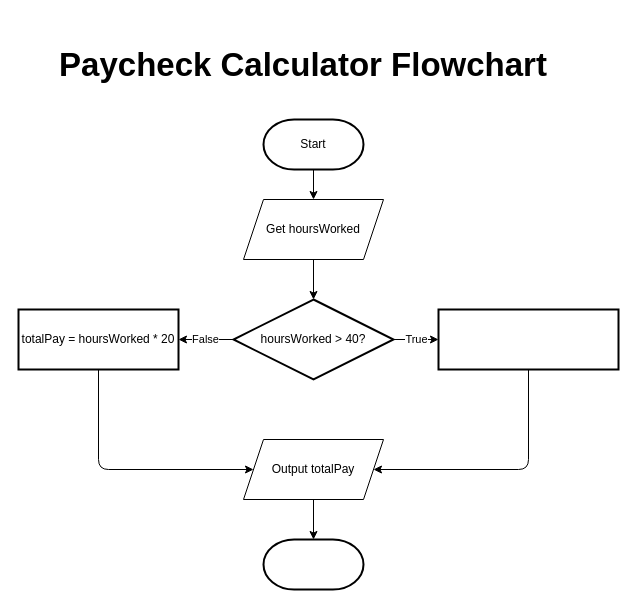
Some shapes in this 636 by 607 pixel diagram are drawn without their labels. The shapes that lost their labels are listed below. From the top down, each one's centre as x and y in pixels, then its label:
At (x=528, y=339): "totalPay = (40 * 20) + ((hoursWorked - 40) * 30)".
At (x=313, y=564): "End".
